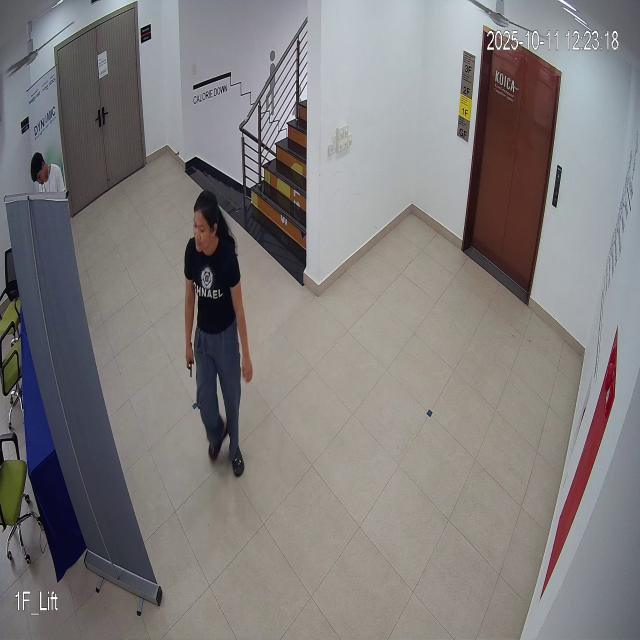face: (188, 172, 222, 255)
